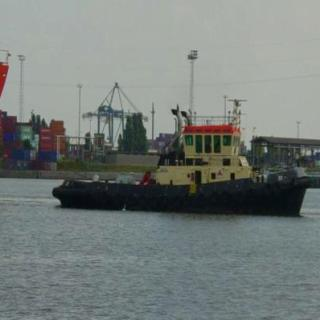Tug Boat: (67, 84, 314, 210)
